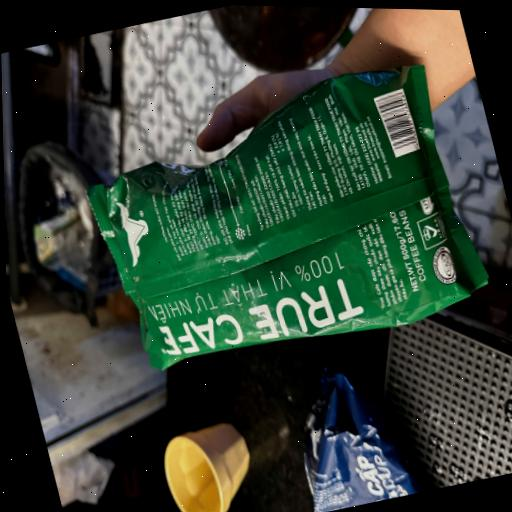cafe_xay: (87, 64, 487, 368)
